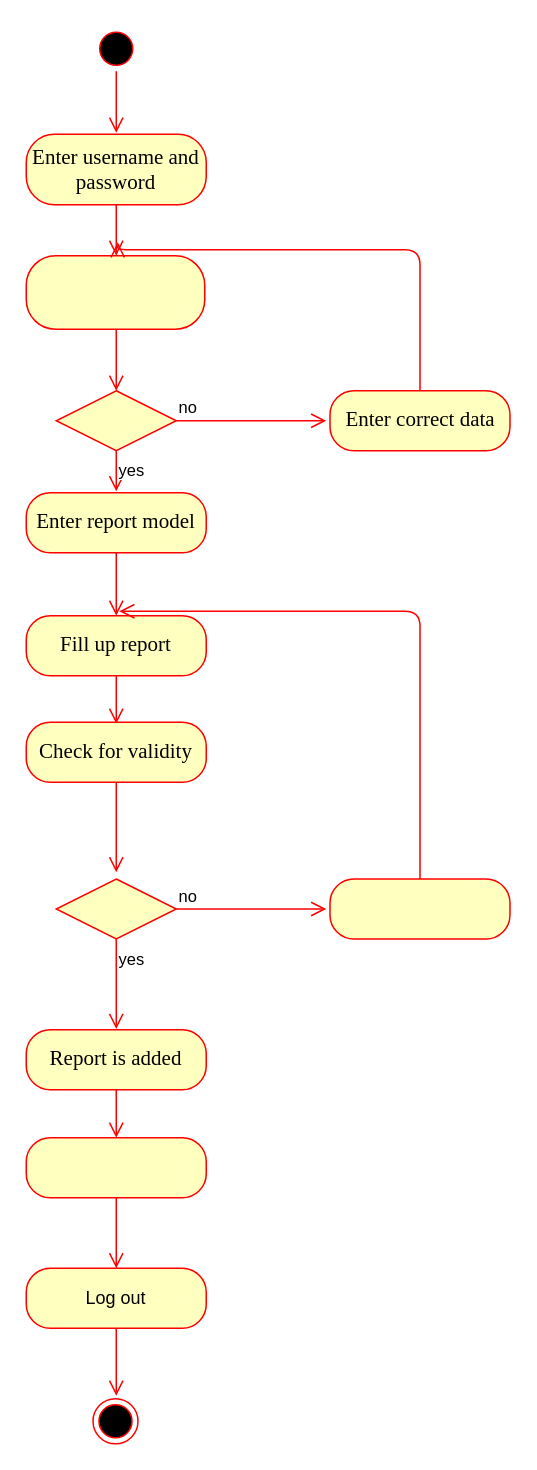
This 537x1470 diagram has some shape labels left out. The shapes that lost their labels are listed below. From the top down, each one's centre as x and y in pixels, then its label:
At point 115,291: "Check if username and password are correct".
At point 419,908: "Enter correct form of data".
At point 115,1167: "Send report".
